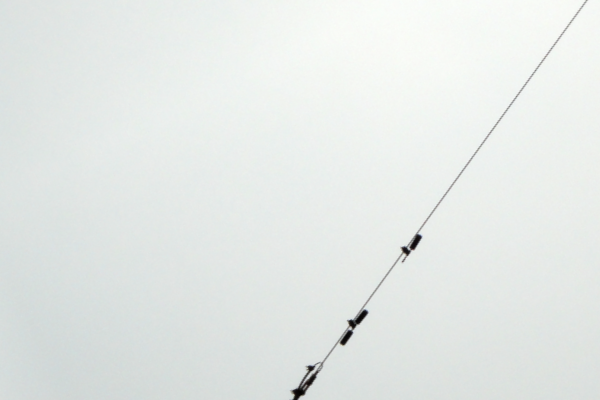damper: (337, 307, 370, 347)
damper_defect: (399, 233, 422, 263)
